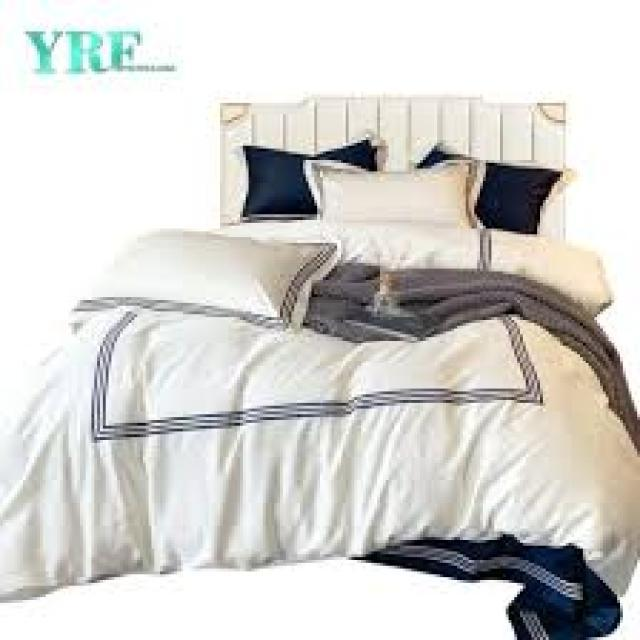bed: (0, 91, 637, 614)
